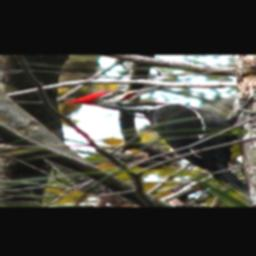Woodpecker: (66, 85, 256, 196)
